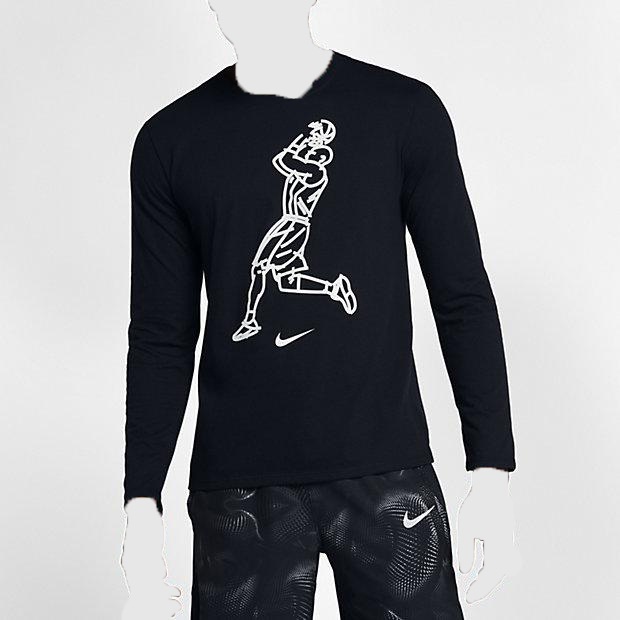teeshirt: (99, 46, 524, 493)
